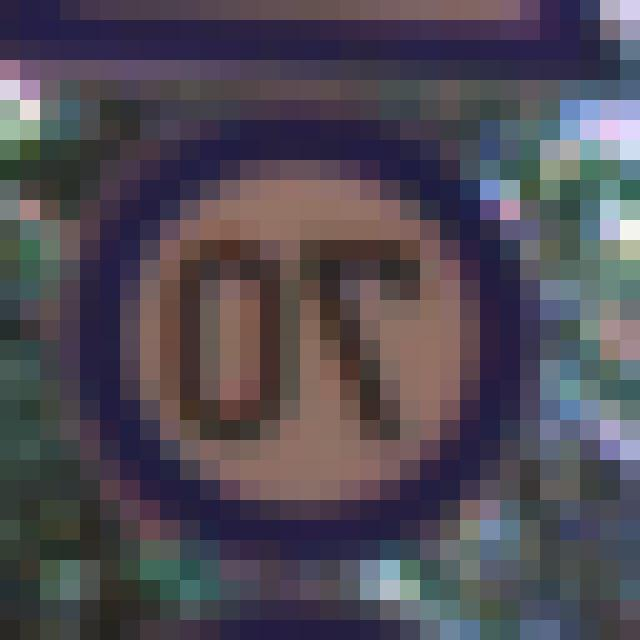SPEED LIMIT 70: (49, 125, 552, 567)
